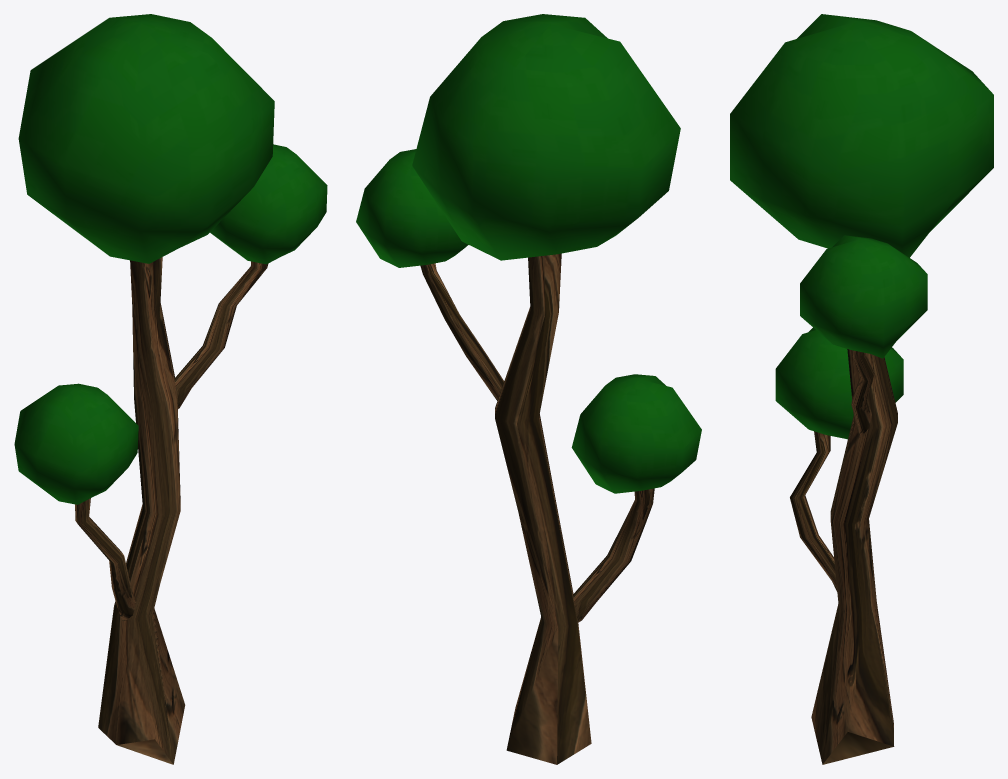
File: tree.FBX
3 views of the same model, side by side, from view 1: azimuth 30°, elevation 25°; view 2: azimuth 150°, elevation 25°; view 3: azimuth 270°, elevation 25° (orthographic).
Parts seen in each view (by area): view 1: Cylinder001; view 2: Cylinder001; view 3: Cylinder001.
Boxes of the visible parts, bbox=[...] form: Cylinder001: bbox=[14, 14, 327, 764]; Cylinder001: bbox=[356, 14, 701, 764]; Cylinder001: bbox=[730, 14, 993, 764].
Bounding box in the file's own units: 131 × 299 × 97.03.
